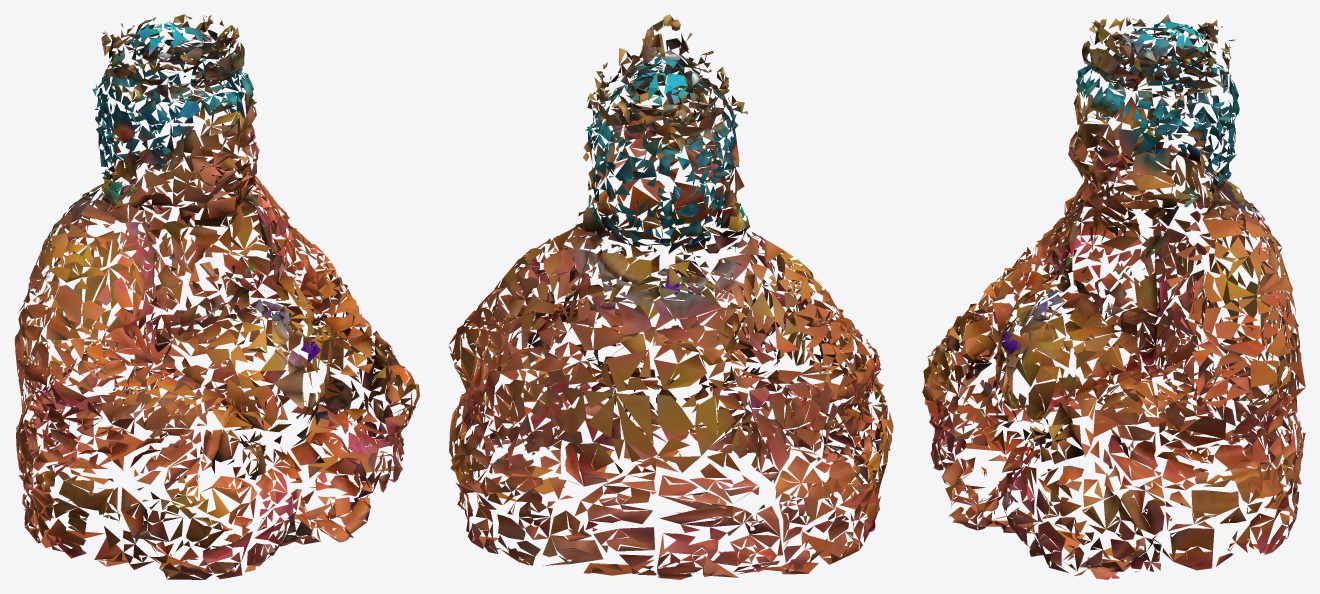
The model's file is far.glb.
3 renders of one model, left to right at view 1: azimuth 30°, elevation 25°; view 2: azimuth 150°, elevation 25°; view 3: azimuth 270°, elevation 25°, orthographic. The views are drawn at different scales.
Parts seen in each view (by area): view 1: statue-039; view 2: statue-039; view 3: statue-039.
Part boxes in pixels (bbox=[...]): statue-039: bbox=[14, 14, 419, 579]; statue-039: bbox=[449, 14, 893, 579]; statue-039: bbox=[922, 14, 1305, 579].
Bounding box in the file's own units: 0.8293 × 1 × 0.7223.
1 material, 1 textured.
